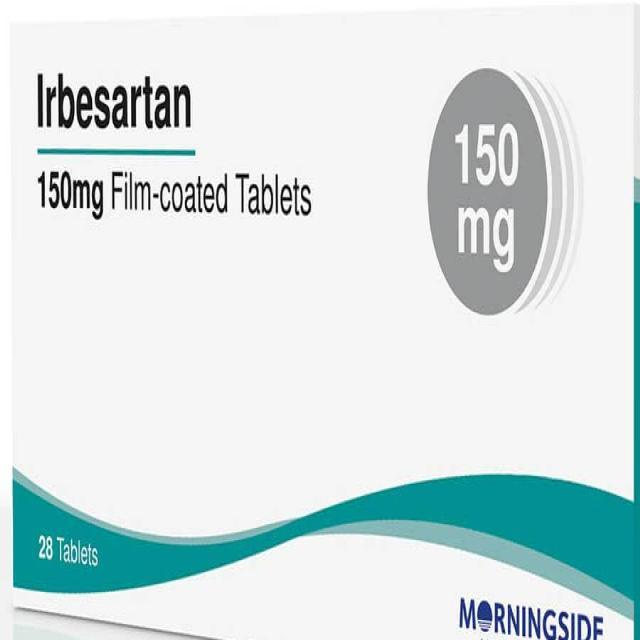drug-name: (32, 68, 196, 138)
